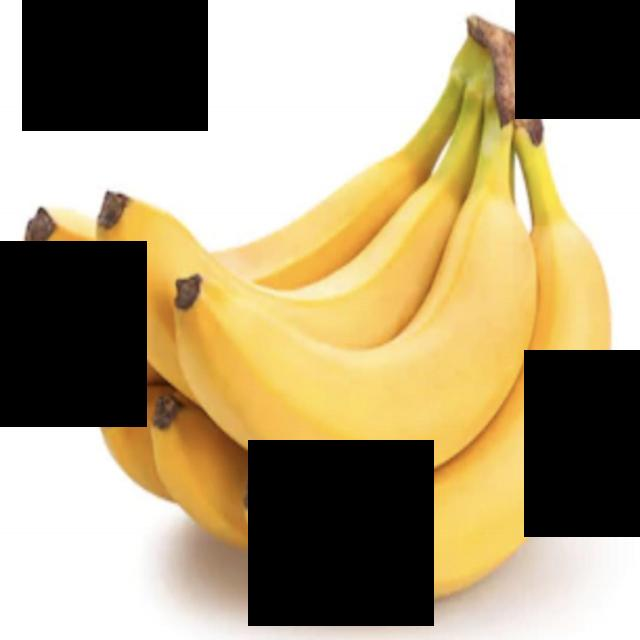banana: (215, 116, 621, 637), (180, 74, 524, 506)
